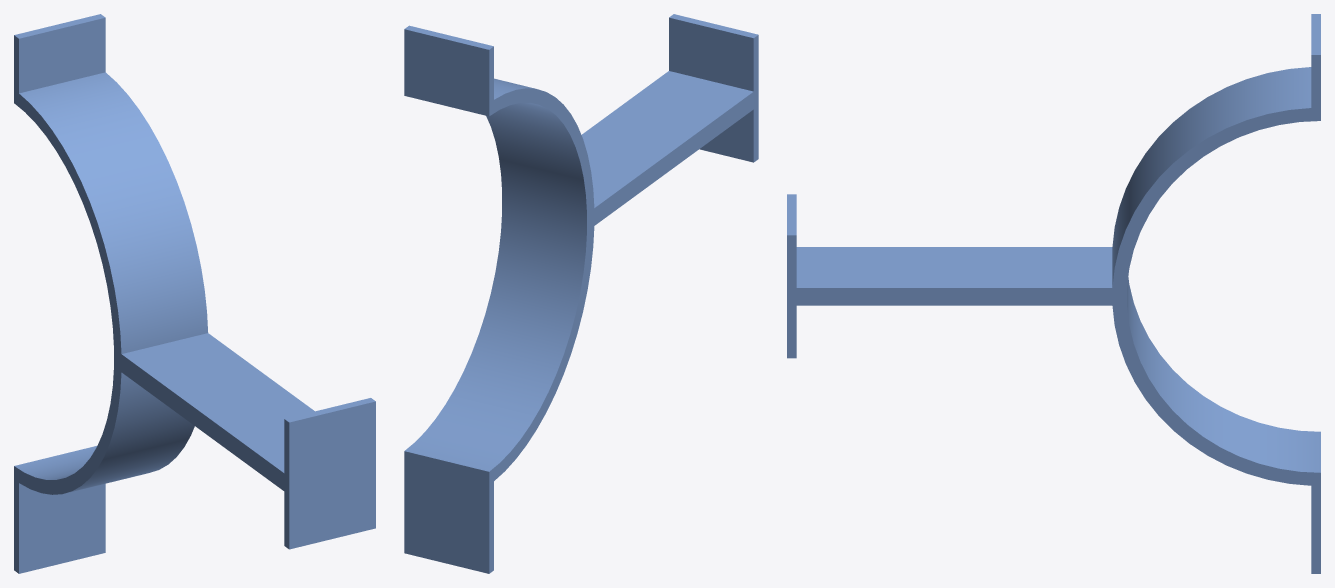
3 renders of one model, left to right at view 1: azimuth 30°, elevation 25°; view 2: azimuth 150°, elevation 25°; view 3: azimuth 270°, elevation 25°, orthographic. The views are drawn at different scales.
Parts seen in each view (by area): view 1: root_node; view 2: root_node; view 3: root_node.
Boxes of the visible parts, <box> form: root_node: <box>14,14,375,573</box>; root_node: <box>404,14,758,573</box>; root_node: <box>787,14,1320,573</box>.
Bounding box in the file's own units: 0.02 × 0.118 × 0.11.
